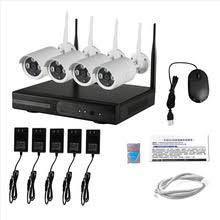tutu: (97, 48, 155, 92), (72, 50, 113, 89), (20, 45, 62, 82), (45, 49, 87, 85)
